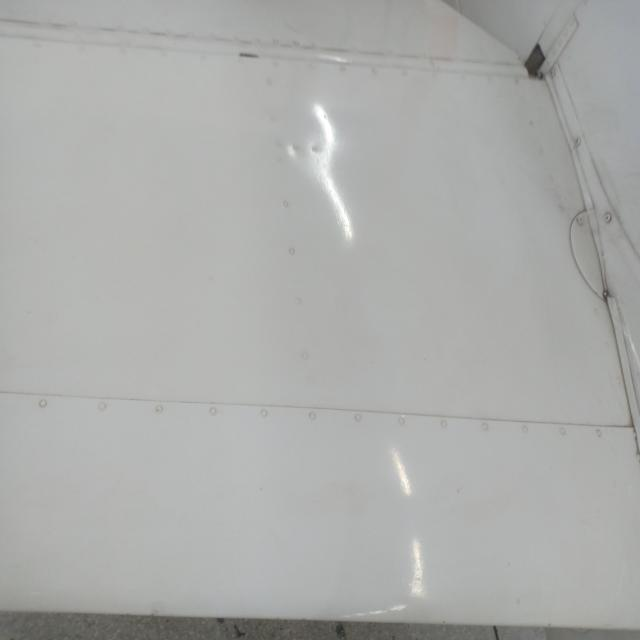Rupture: (225, 32, 271, 70)
